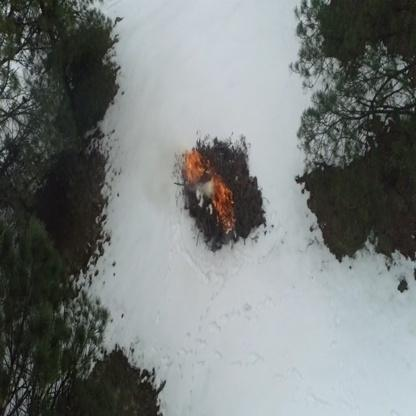Fire: (183, 151, 203, 182), (221, 188, 235, 231), (213, 176, 227, 212), (206, 162, 214, 174)
